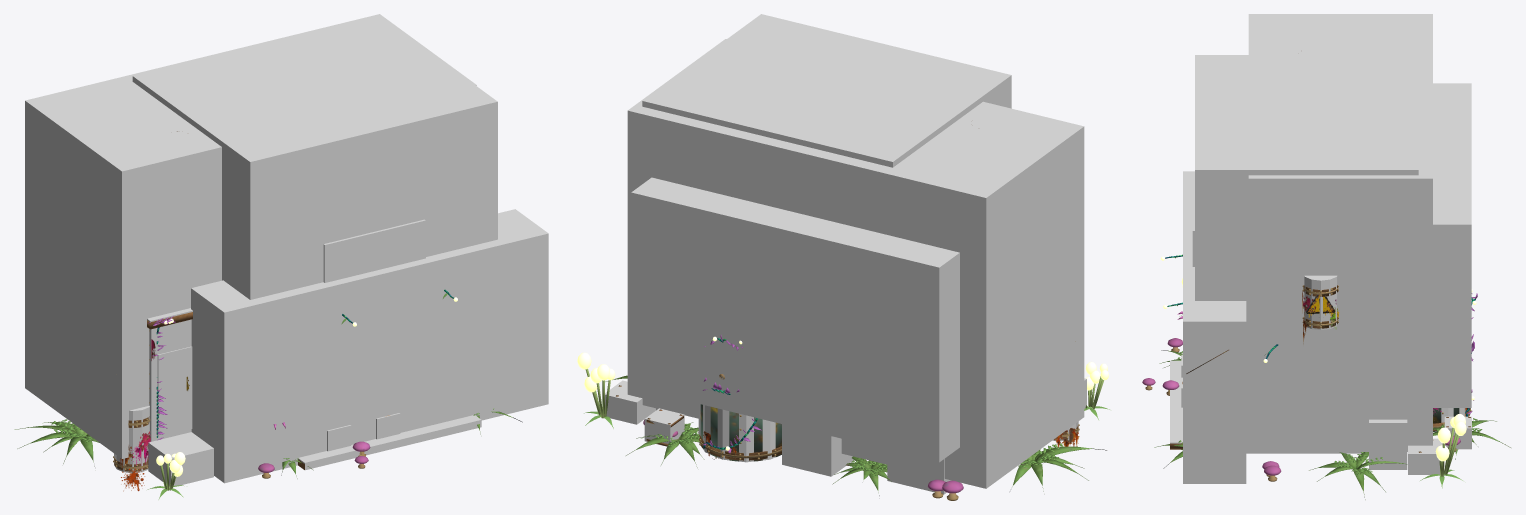
File: slime_cafe.glb
The picture shows the model from 3 angles, left to right: view 1: azimuth 30°, elevation 25°; view 2: azimuth 150°, elevation 25°; view 3: azimuth 270°, elevation 25°; orthographic projection. The views are drawn at different scales.
Parts seen in each view (by area): view 1: col_bld_slime_cafe_head, col_bld_slime_cafe_awnings, col_bld_slime_cafe_pipes, col_bld_slime_cafe_neon, slime_cafe_body_a, col_bld_slime_cafe_SIGN_menu, col_bld_slime_cafe_stoop, col_bld_PROP_crate_m_i.006, col_bld_slime_cafe_W_box_front, col_bld_slime_cafe_T_L_ground, slime_cafe_decal, slime_cafe_plain; view 2: col_bld_slime_cafe_pipes, col_bld_slime_cafe_wheels, col_bld_slime_cafe_head, slime_cafe_body_b, slime_cafe_body_a, col_bld_PROP_barrel_i.005, col_bld_slime_cafe_T_back_big, col_bld_PROP_crate_l_i.003, slime_cafe_plain, col_bld_PROP_crate_s_i.007, col_bld_PROP_crate_s_i.008; view 3: col_bld_slime_cafe_pipes, col_bld_slime_cafe_head, col_bld_slime_cafe_awnings, col_bld_slime_cafe_wheels, slime_cafe_body_b, col_bld_PROP_barrel_i.004, col_bld_slime_cafe_T_R_top, col_bld_PROP_crate_s_i.007, col_bld_slime_cafe_stoop, slime_cafe_plain, slime_cafe_decal, col_bld_slime_cafe_W_right (+1 smaller).
Part boxes in pixels (left/top/right/bottom): col_bld_slime_cafe_head: left=132, top=15, right=497, bottom=299; col_bld_slime_cafe_awnings: left=191, top=209, right=548, bottom=483; col_bld_slime_cafe_pipes: left=25, top=14, right=476, bottom=458; col_bld_slime_cafe_neon: left=323, top=219, right=425, bottom=282; slime_cafe_body_a: left=14, top=131, right=368, bottom=499; col_bld_slime_cafe_SIGN_menu: left=157, top=346, right=192, bottom=437; col_bld_slime_cafe_stoop: left=298, top=415, right=481, bottom=470; col_bld_PROP_crate_m_i.006: left=148, top=432, right=213, bottom=486; col_bld_slime_cafe_W_box_front: left=151, top=319, right=191, bottom=441; col_bld_slime_cafe_T_L_ground: left=114, top=405, right=149, bottom=472; slime_cafe_decal: left=119, top=339, right=189, bottom=491; slime_cafe_plain: left=156, top=289, right=457, bottom=476; col_bld_slime_cafe_pipes: left=627, top=39, right=1084, bottom=488; col_bld_slime_cafe_wheels: left=631, top=177, right=959, bottom=462; col_bld_slime_cafe_head: left=642, top=14, right=1011, bottom=167; slime_cafe_body_b: left=584, top=335, right=781, bottom=467; slime_cafe_body_a: left=832, top=341, right=1109, bottom=500; col_bld_PROP_barrel_i.005: left=782, top=424, right=853, bottom=476; col_bld_slime_cafe_T_back_big: left=698, top=404, right=775, bottom=462; col_bld_PROP_crate_l_i.003: left=887, top=450, right=951, bottom=494; slime_cafe_plain: left=577, top=336, right=1108, bottom=450; col_bld_PROP_crate_s_i.007: left=605, top=380, right=655, bottom=424; col_bld_PROP_crate_s_i.008: left=644, top=408, right=684, bottom=446; col_bld_slime_cafe_pipes: left=1248, top=14, right=1432, bottom=451; col_bld_slime_cafe_head: left=1195, top=55, right=1418, bottom=334; col_bld_slime_cafe_awnings: left=1183, top=171, right=1246, bottom=483; col_bld_slime_cafe_wheels: left=1433, top=83, right=1471, bottom=407; slime_cafe_body_b: left=1154, top=285, right=1510, bottom=499; col_bld_PROP_barrel_i.004: left=1369, top=419, right=1407, bottom=469; col_bld_slime_cafe_T_R_top: left=1304, top=275, right=1337, bottom=329; col_bld_PROP_crate_s_i.007: left=1408, top=438, right=1442, bottom=474; col_bld_slime_cafe_stoop: left=1170, top=360, right=1182, bottom=443; slime_cafe_plain: left=1160, top=254, right=1476, bottom=461; slime_cafe_decal: left=1302, top=288, right=1466, bottom=420; col_bld_slime_cafe_W_right: left=1246, top=354, right=1361, bottom=453.
Bounding box in the file's own units: 9.57 × 6.37 × 6.85.
32 materials, 11 textured.
